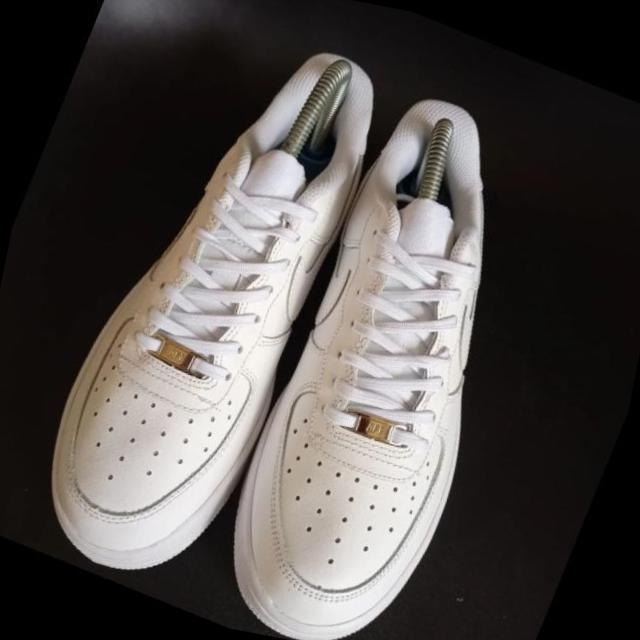nike_fake_airforce: (0, 0, 407, 629), (188, 60, 598, 640)
